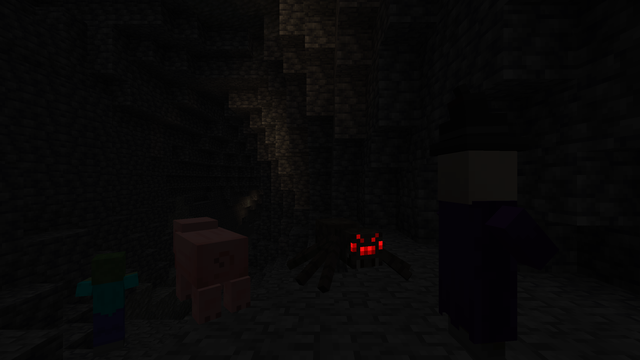araignees: (306, 215, 400, 288)
cochons: (155, 226, 251, 315)
sorcieres: (430, 141, 530, 356)
zombies: (82, 254, 133, 358)
